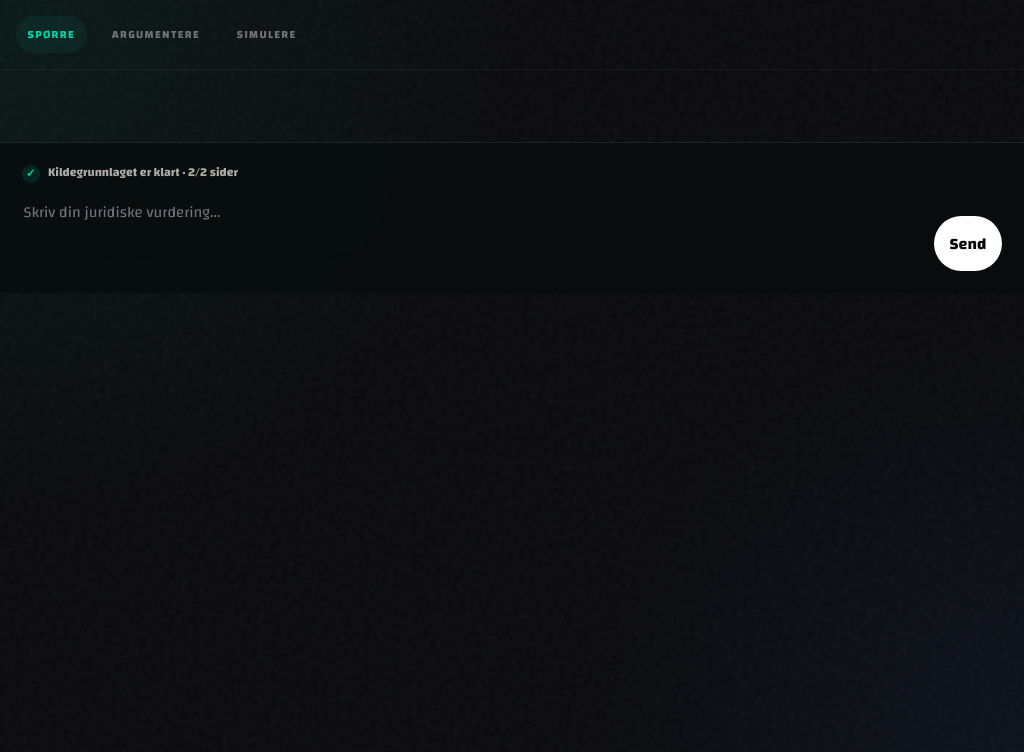
Test: SaksromChat › renders explicit findings as a readable source-bound answer card without inventing metadata
Type "Oppsummer kontrakten" into the text box named "Saksrom melding". click: (470, 235)
box: [22,199,918,271]
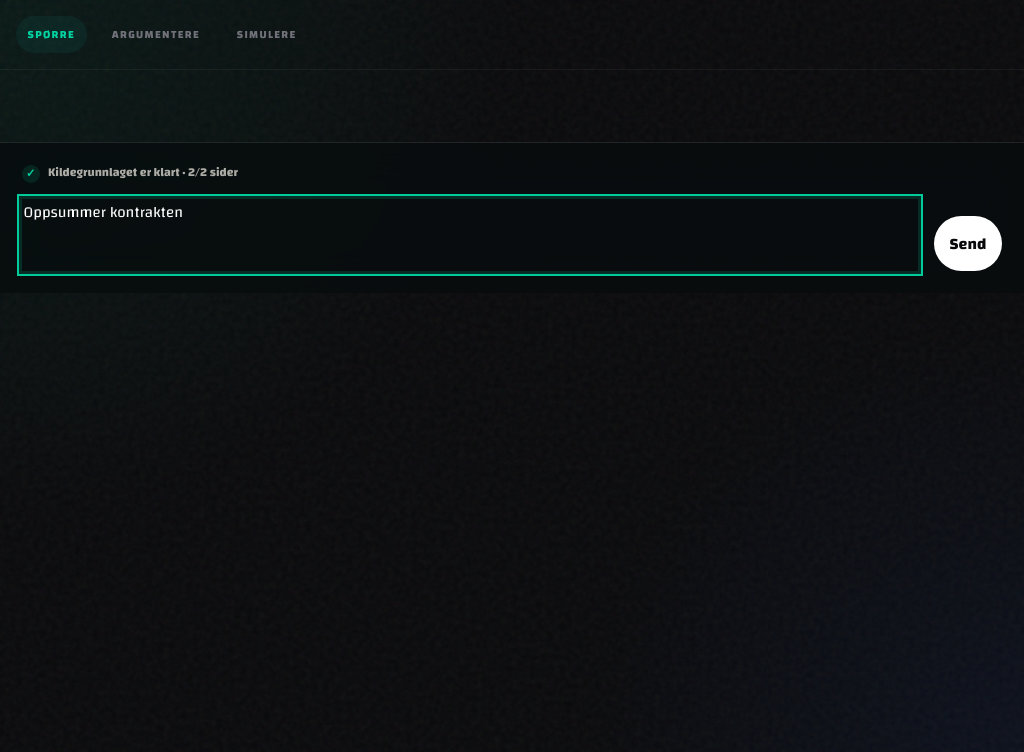
Click the button "Send". click: click(968, 244)
box: [934,216,1002,271]
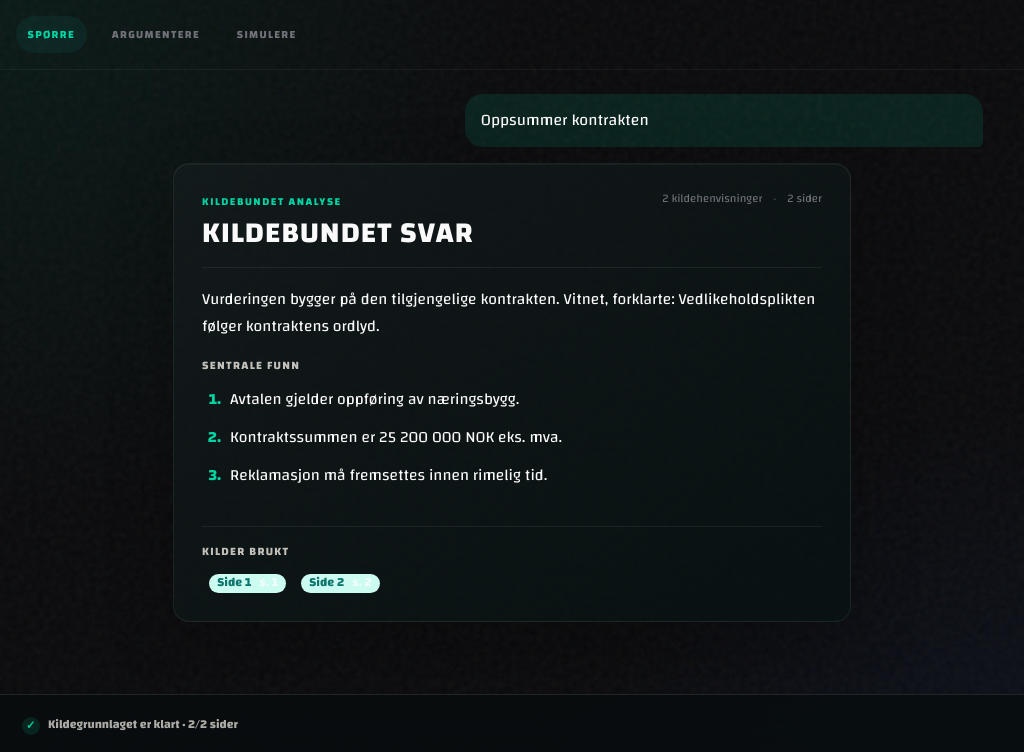
Expected: the list item "Reklamasjon må fremsettes innen rimelig tid." is shown, [230,461,547,490]
Expected: the heading "Kildebundet svar" is shown, [202,217,474,251]
Expected: the heading "Sentrale funn" is shown, [202,356,300,377]
